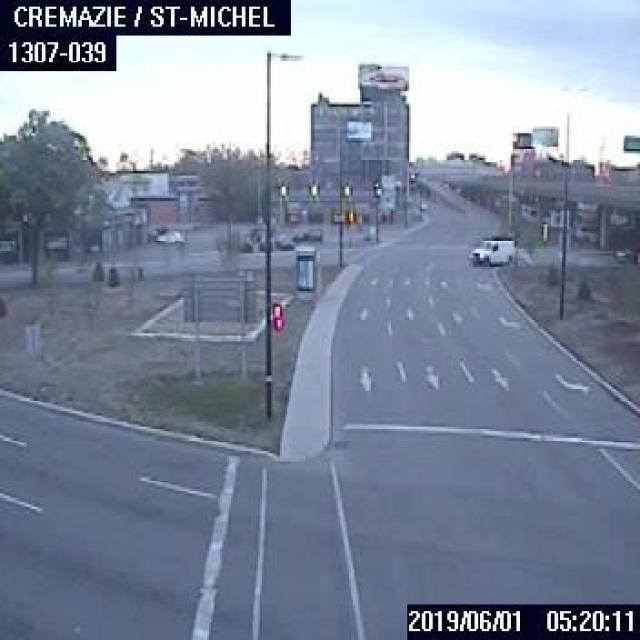vehicle: (468, 236, 516, 264), (155, 228, 186, 244), (613, 245, 638, 263), (272, 233, 293, 249)
